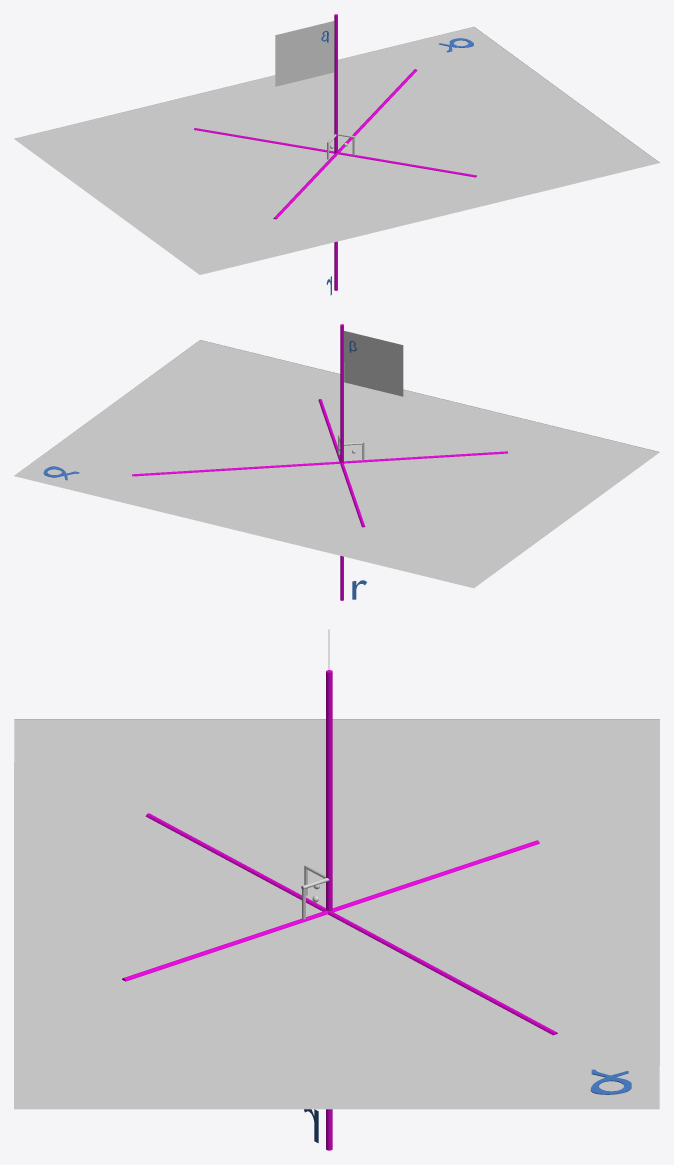
The model's file is ob2.4_planos_perpendiculares.glb.
3 views of the same model, one above another, from view 1: azimuth 30°, elevation 25°; view 2: azimuth 150°, elevation 25°; view 3: azimuth 270°, elevation 25° (orthographic). The views are drawn at different scales.
Parts seen in each view (by area): view 1: plano_Box, plano0_Box, reta_Cylinder, Cylinder-reta-C_Cylinder, Cylinder-reta-A_Cylinder; view 2: plano_Box, plano0_Box, Cylinder-reta-A_Cylinder, Cylinder-reta-C_Cylinder, reta_Cylinder; view 3: plano_Box, Cylinder-reta-A_Cylinder, reta_Cylinder, Cylinder-reta-C_Cylinder.
Boxes of the visible parts, left/top/right/bottom form: plano_Box: left=14, top=26, right=659, bottom=274; plano0_Box: left=275, top=21, right=334, bottom=86; reta_Cylinder: left=194, top=128, right=476, bottom=177; Cylinder-reta-C_Cylinder: left=334, top=14, right=337, bottom=290; Cylinder-reta-A_Cylinder: left=273, top=69, right=417, bottom=219; plano_Box: left=14, top=340, right=659, bottom=588; plano0_Box: left=344, top=331, right=403, bottom=396; Cylinder-reta-A_Cylinder: left=132, top=451, right=507, bottom=476; Cylinder-reta-C_Cylinder: left=340, top=324, right=343, bottom=600; reta_Cylinder: left=318, top=399, right=365, bottom=527; plano_Box: left=14, top=719, right=659, bottom=1109; Cylinder-reta-A_Cylinder: left=145, top=813, right=557, bottom=1035; reta_Cylinder: left=122, top=840, right=539, bottom=981; Cylinder-reta-C_Cylinder: left=326, top=670, right=332, bottom=1150.
Size of the model in its own units: 1.4 by 0.8007 by 0.9803.
